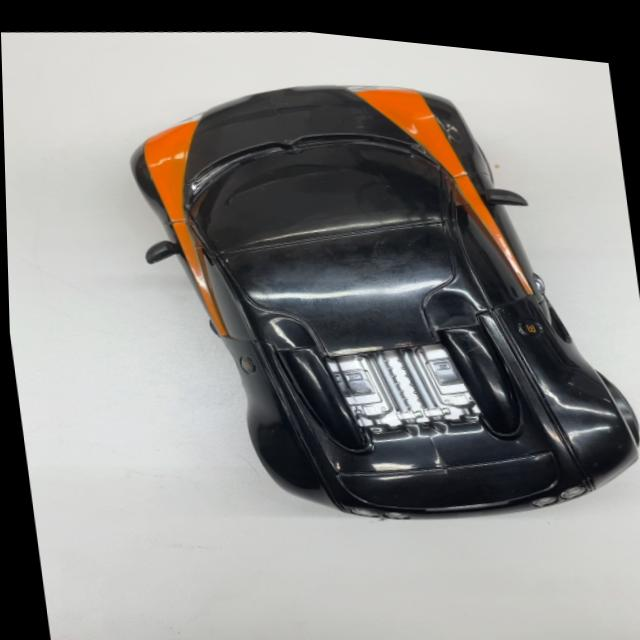vehicle_body: (107, 26, 640, 568)
